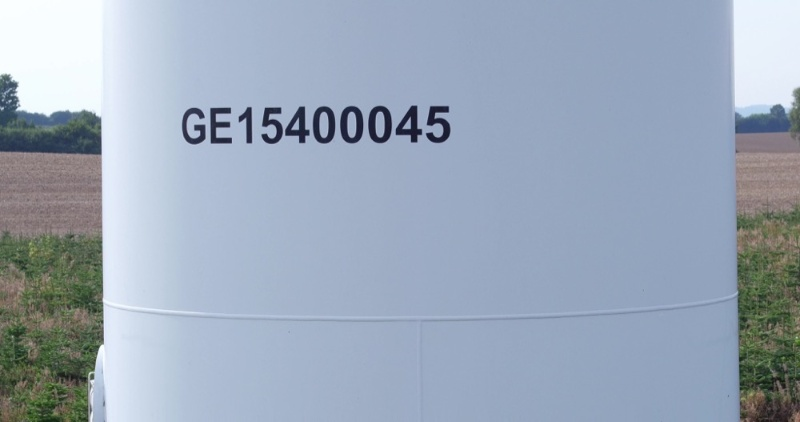weldseam: (103, 288, 739, 324), (412, 312, 428, 422)
